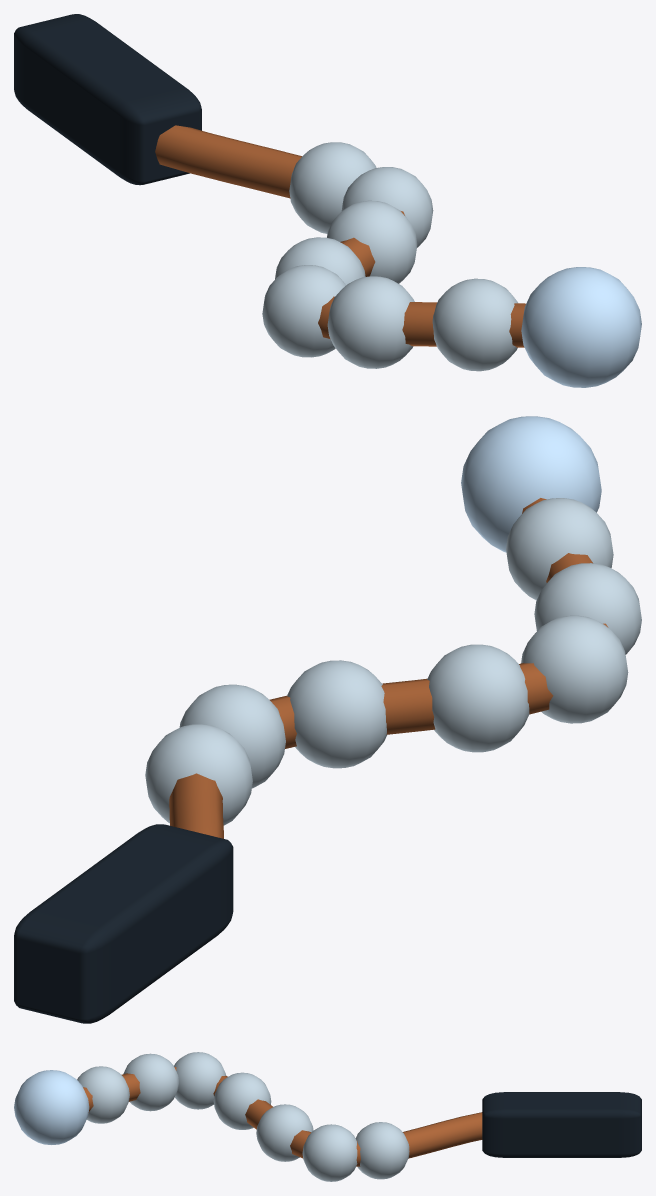
The model's file is whip-1.glb.
The picture shows the model from 3 angles, top to bottom: view 1: azimuth 30°, elevation 25°; view 2: azimuth 150°, elevation 25°; view 3: azimuth 270°, elevation 25°; orthographic projection. The views are drawn at different scales.
Size of the model in its own units: 0.4365 by 0.2464 by 1.44.
